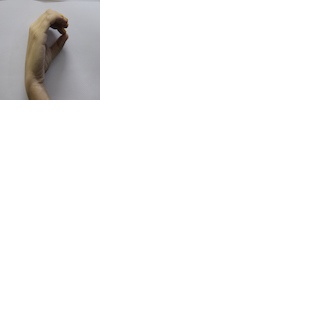rock: (17, 4, 75, 84)
